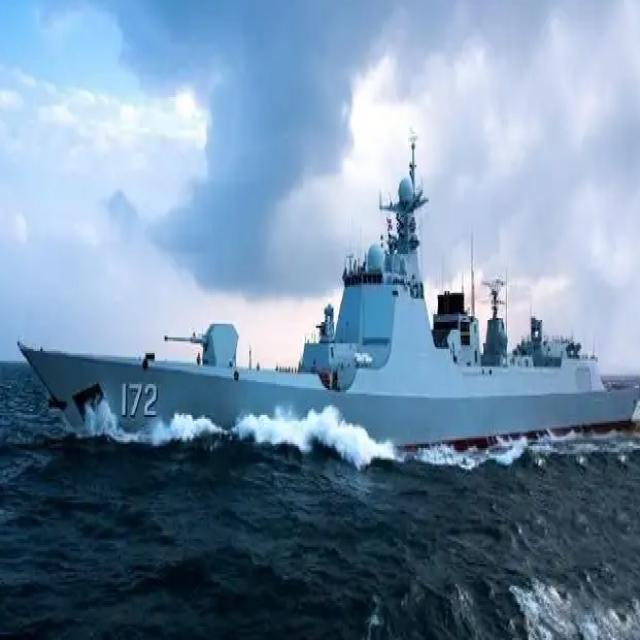navalvessels: (16, 136, 640, 438)
